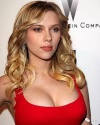female: (14, 3, 72, 64)
